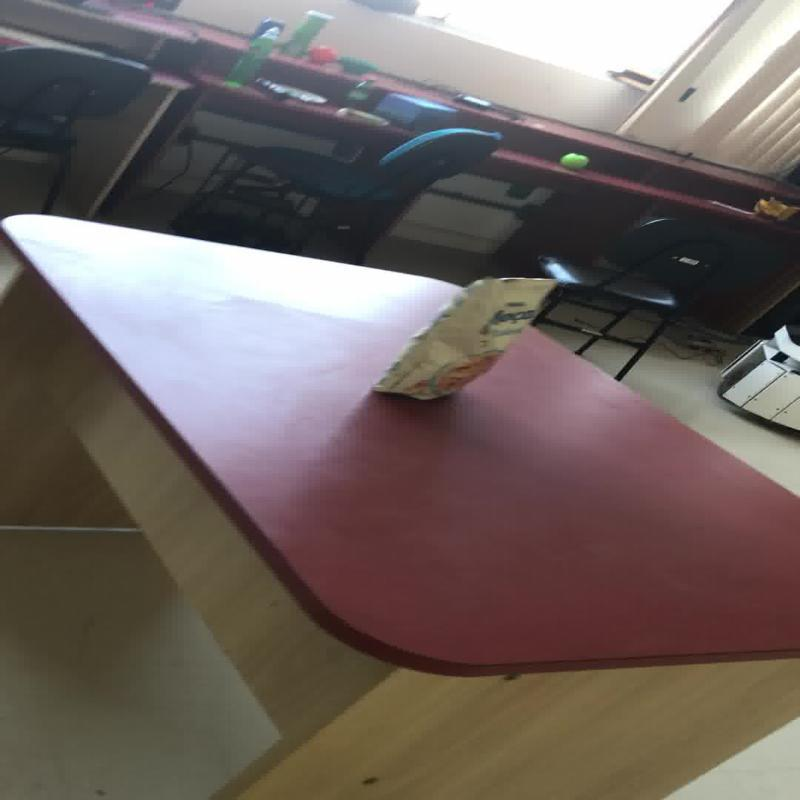corn flakes: (369, 274, 558, 400)
